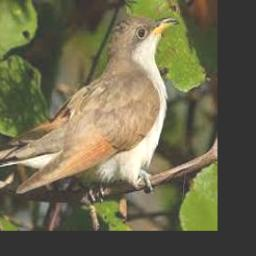Cuckoo: (0, 17, 179, 193)
